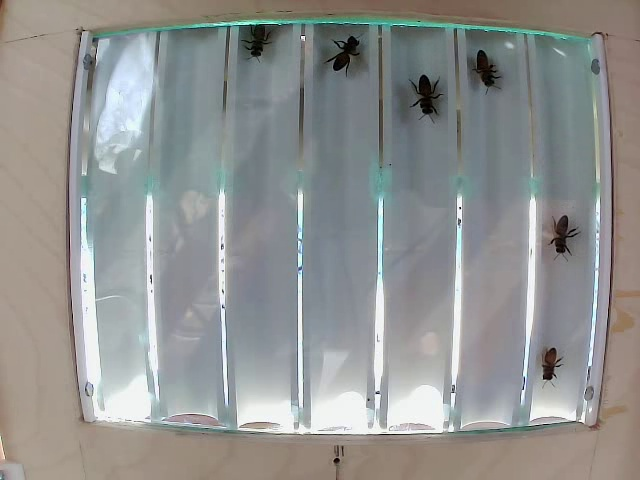bee: (241, 22, 281, 70), (550, 215, 584, 271), (328, 35, 370, 80), (533, 342, 575, 387), (412, 80, 445, 123), (476, 63, 499, 98)
